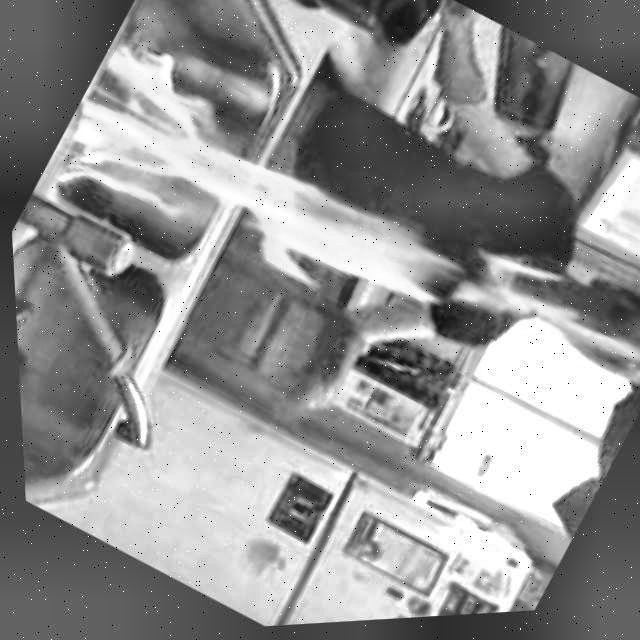Fire: (48, 18, 532, 404), (492, 244, 640, 412)
